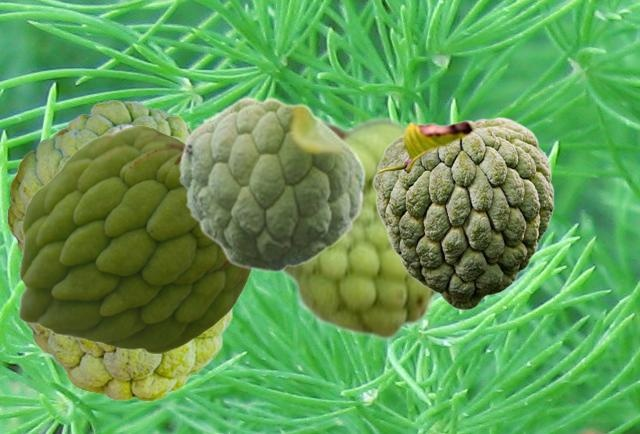atis: (18, 125, 254, 353), (278, 115, 440, 342), (372, 116, 553, 309), (178, 96, 366, 271), (7, 100, 193, 253), (22, 283, 242, 400)
